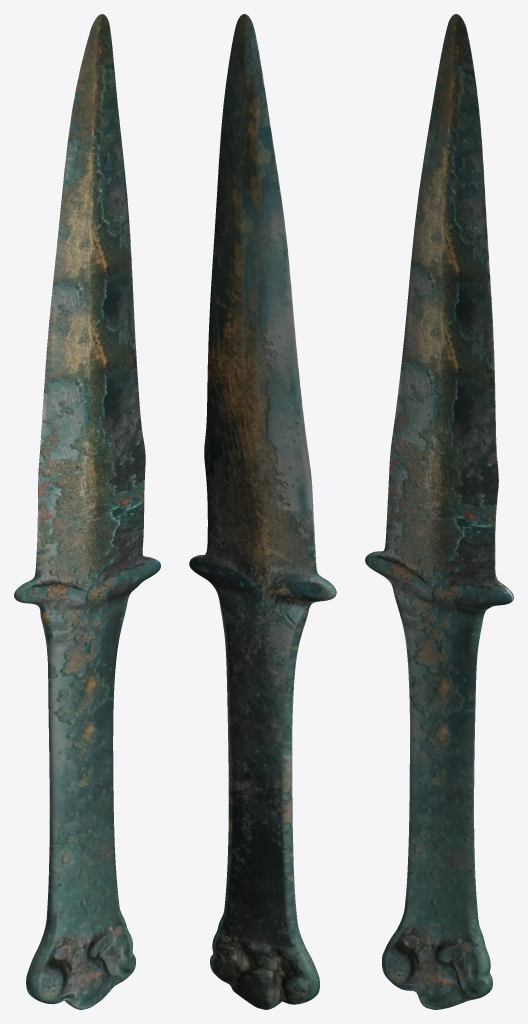
File: exhibit_knife.glb
3 renders of one model, left to right at view 1: azimuth 30°, elevation 25°; view 2: azimuth 150°, elevation 25°; view 3: azimuth 330°, elevation 25°, orthographic.
Parts seen in each view (by area): view 1: Cube; view 2: Cube; view 3: Cube.
Boxes of the visible parts, left/top/right/bottom form: Cube: left=14, top=14, right=160, bottom=1009; Cube: left=189, top=14, right=336, bottom=1009; Cube: left=365, top=14, right=513, bottom=1009.
Bounding box in the file's own units: 0.6947 × 4.51 × 0.1025.
Materials: 1 (1 with a texture image).
